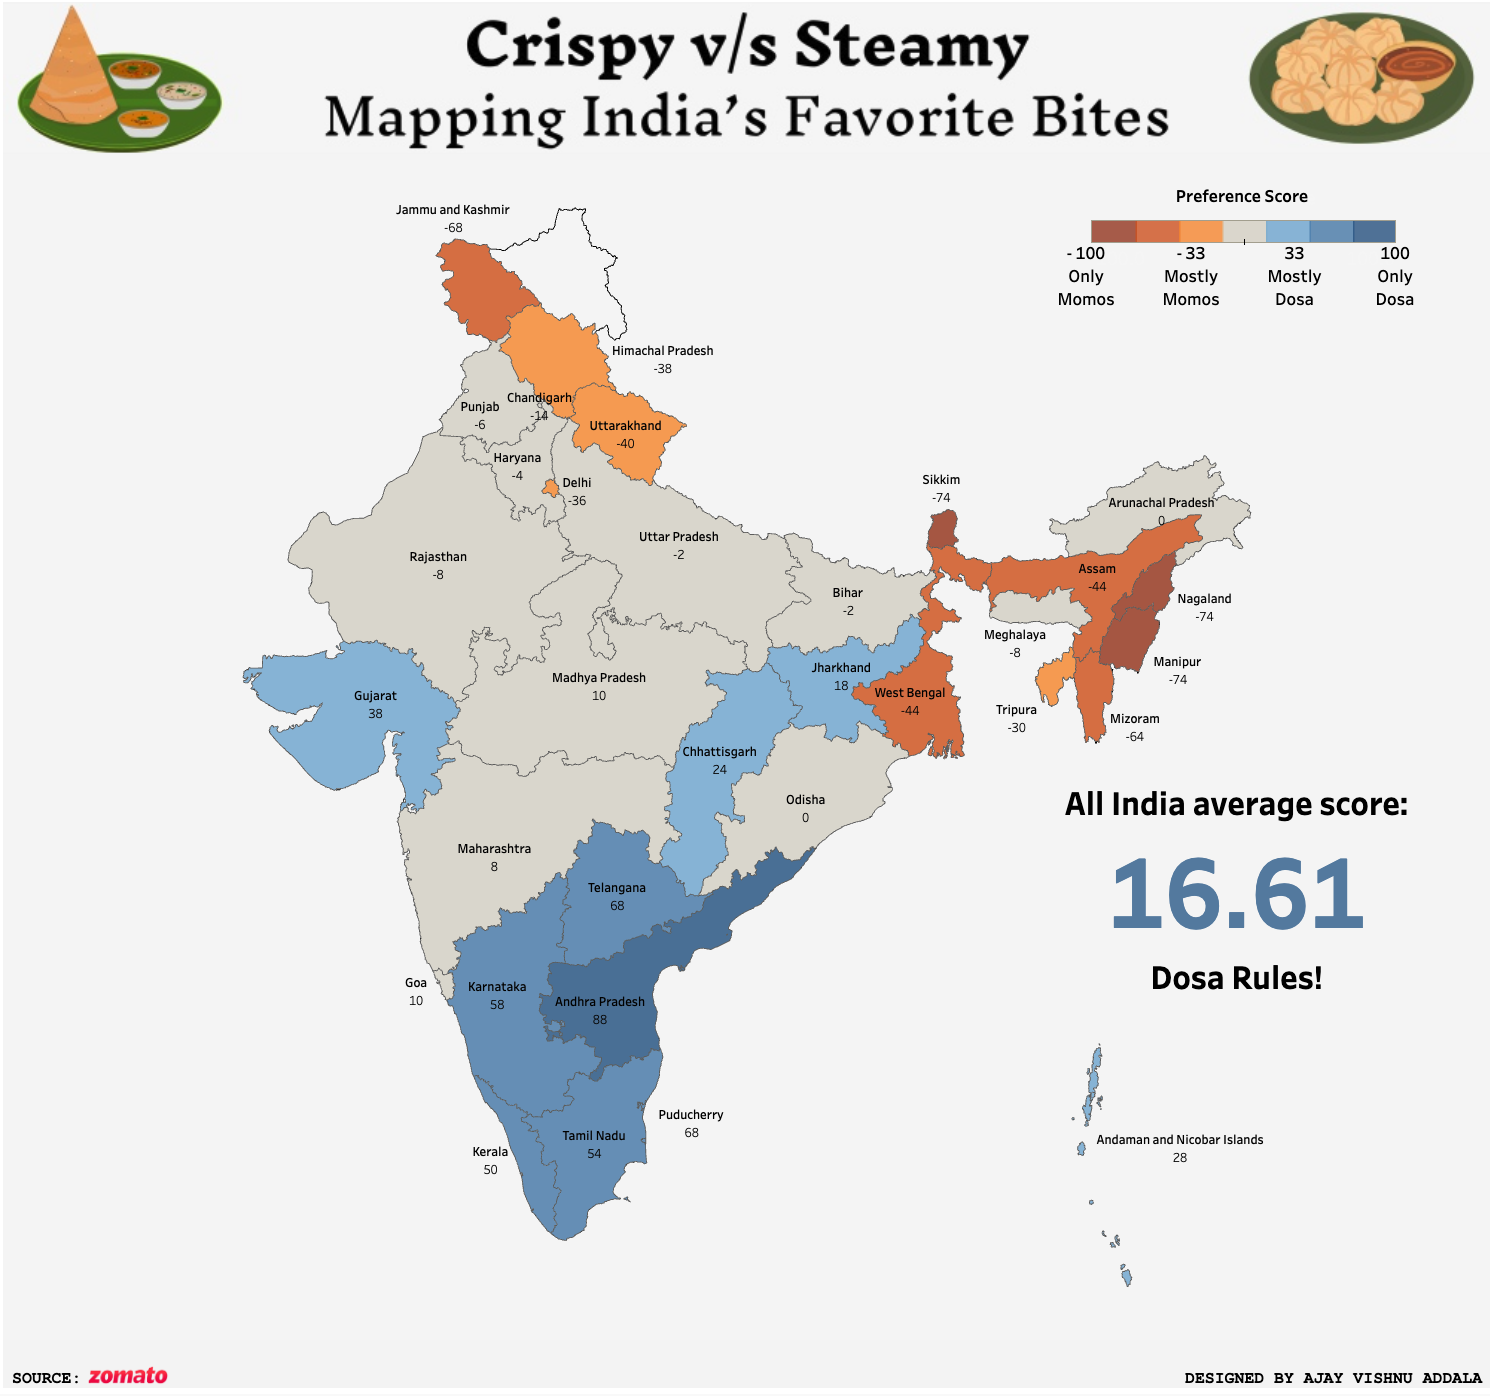

The dashboard page shown, as its layout file describes it:
{"tool":"tableau","page":{"name":"Dosa Vs Momos","canvas":[1000,932],"ordinal":0},"visuals":[{"type":"image","param":"Image/Untitled design.png","box":[4,4,992,100.9]},{"type":"worksheet","title":"India Map","mark":"Multipolygon","box":[4,104.9,992,791.1]},{"type":"text","box":[780,117,100,30]},{"type":"legend","title":"India Map","param":"[federated.18etsjf10w04y51h554v70taejzq].[sum:Normalized Score:qk]","box":[725,125,212,54]},{"type":"text","box":[696,163,60,45]},{"type":"text","box":[766,163,60,45]},{"type":"text","box":[835,163,60,45]},{"type":"text","box":[902,163,60,45]},{"type":"text","box":[684,509,285,172]},{"type":"image","param":"Image/Zomato-Logo-removebg-preview.png","box":[45,904,85,30]},{"type":"text","box":[10,905,50,30]},{"type":"text","box":[792,905,204,30]}]}

Visuals, with their boxes in screenshot pixels (x1, y1, x2, y2), scaled from the page's 1000x932 canvas onto the 1490x1396 screenshot:
image: left=6, top=6, right=1484, bottom=157
"India Map" worksheet (Multipolygon marks): left=6, top=157, right=1484, bottom=1342
text: left=1162, top=175, right=1311, bottom=220
"India Map" legend: left=1080, top=187, right=1396, bottom=268
text: left=1037, top=244, right=1126, bottom=312
text: left=1141, top=244, right=1231, bottom=312
text: left=1244, top=244, right=1334, bottom=312
text: left=1344, top=244, right=1433, bottom=312
text: left=1019, top=762, right=1444, bottom=1020
image: left=67, top=1354, right=194, bottom=1395
text: left=15, top=1356, right=89, bottom=1395
text: left=1180, top=1356, right=1484, bottom=1395
